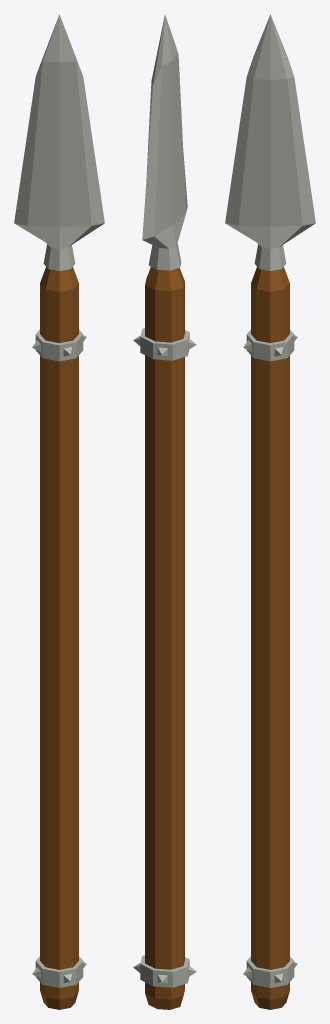
The model's file is A_Spear.fbx.
The picture shows the model from 3 angles, left to right: view 1: azimuth 90°, elevation 25°; view 2: azimuth 150°, elevation 25°; view 3: azimuth 270°, elevation 25°; orthographic projection.
Visible parts, largest first — view 1: Circle; view 2: Circle; view 3: Circle.
Boxes of the visible parts, bbox=[...] form: Circle: bbox=[14, 14, 104, 1009]; Circle: bbox=[133, 14, 196, 1009]; Circle: bbox=[225, 14, 315, 1009].
Size of the model in its own units: 10 by 180 by 15.
